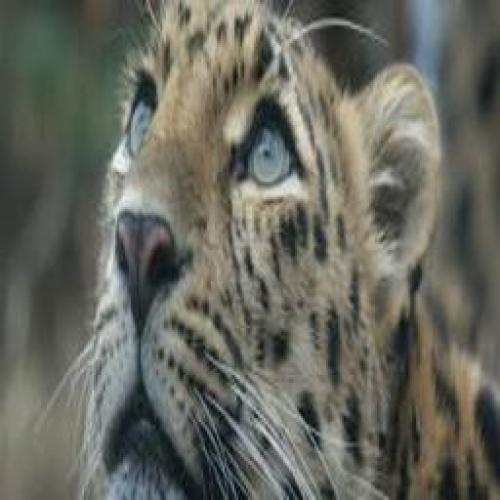amur_leopard-endangered: (90, 0, 493, 489)
